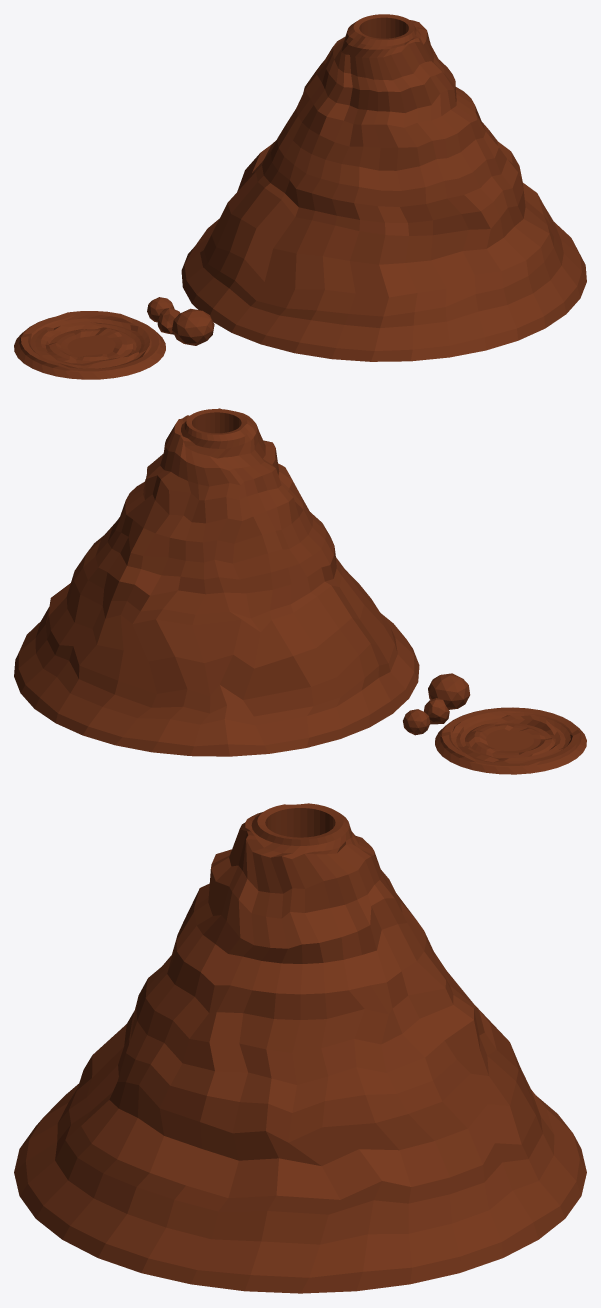
File: VolcanoApocalypse.fbx
3 renders of one model, top to bottom at view 1: azimuth 30°, elevation 25°; view 2: azimuth 150°, elevation 25°; view 3: azimuth 270°, elevation 25°, orthographic. The views are drawn at different scales.
Visible parts, largest first — view 1: VolcanoTall, Crater, MeteorRock1; view 2: VolcanoTall, Crater, MeteorRock1, MeteorRock2, MeteorRock3; view 3: VolcanoTall.
Part boxes in pixels (x1,y1,x2,y2): VolcanoTall: (181, 14, 586, 361); Crater: (14, 311, 165, 379); MeteorRock1: (172, 308, 214, 345); VolcanoTall: (14, 408, 419, 756); Crater: (435, 707, 586, 774); MeteorRock1: (428, 673, 470, 709); MeteorRock2: (403, 709, 430, 735); MeteorRock3: (424, 698, 449, 724); VolcanoTall: (14, 803, 586, 1293).
Size of the model in its own units: 10536 by 4730 by 6916.
